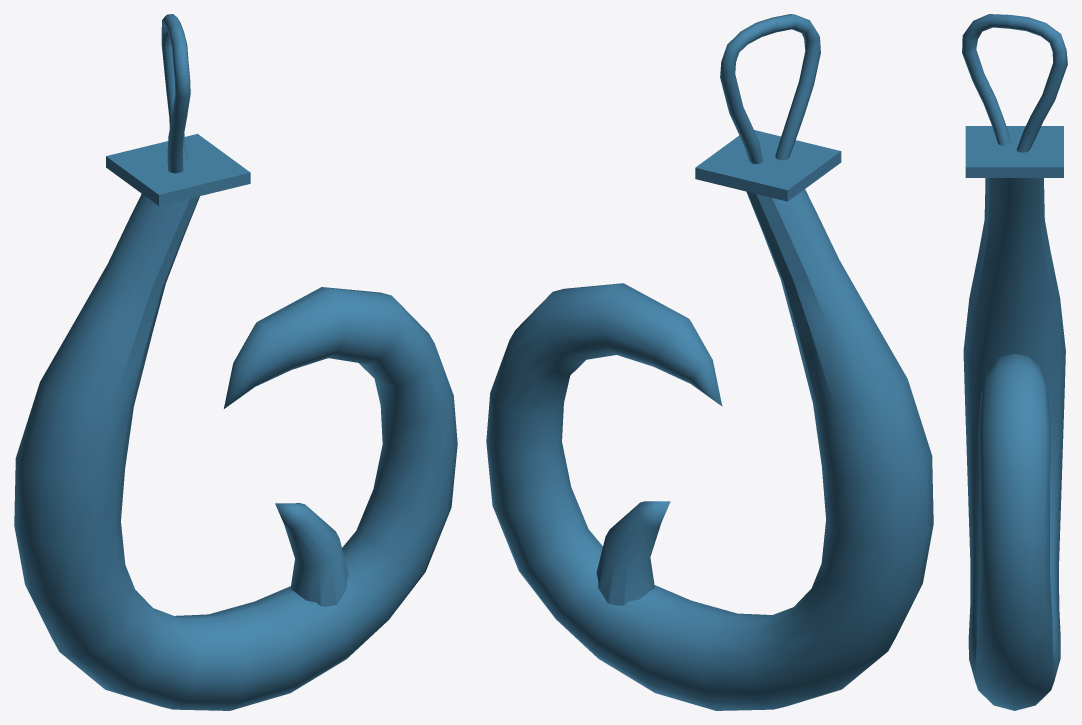
Rendered from Mesh Ancor.fbx.
3 renders of one model, left to right at view 1: azimuth 30°, elevation 25°; view 2: azimuth 150°, elevation 25°; view 3: azimuth 270°, elevation 25°, orthographic. The views are drawn at different scales.
Parts seen in each view (by area): view 1: Mesh_Ancor; view 2: Mesh_Ancor; view 3: Mesh_Ancor.
Part boxes in pixels (x1=…): Mesh_Ancor: x1=14, y1=14, x2=457, y2=710; Mesh_Ancor: x1=486, y1=14, x2=933, y2=710; Mesh_Ancor: x1=962, y1=14, x2=1067, y2=710.
Bounding box in the file's own units: 78.32 × 120 × 17.92.
